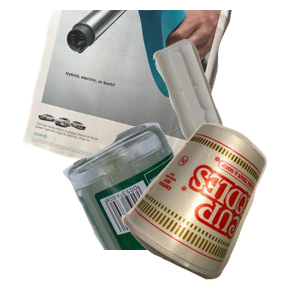glass: (60, 120, 300, 300)
paper: (20, 10, 244, 190)
plastic: (150, 36, 300, 173)
trash: (119, 121, 300, 300)
